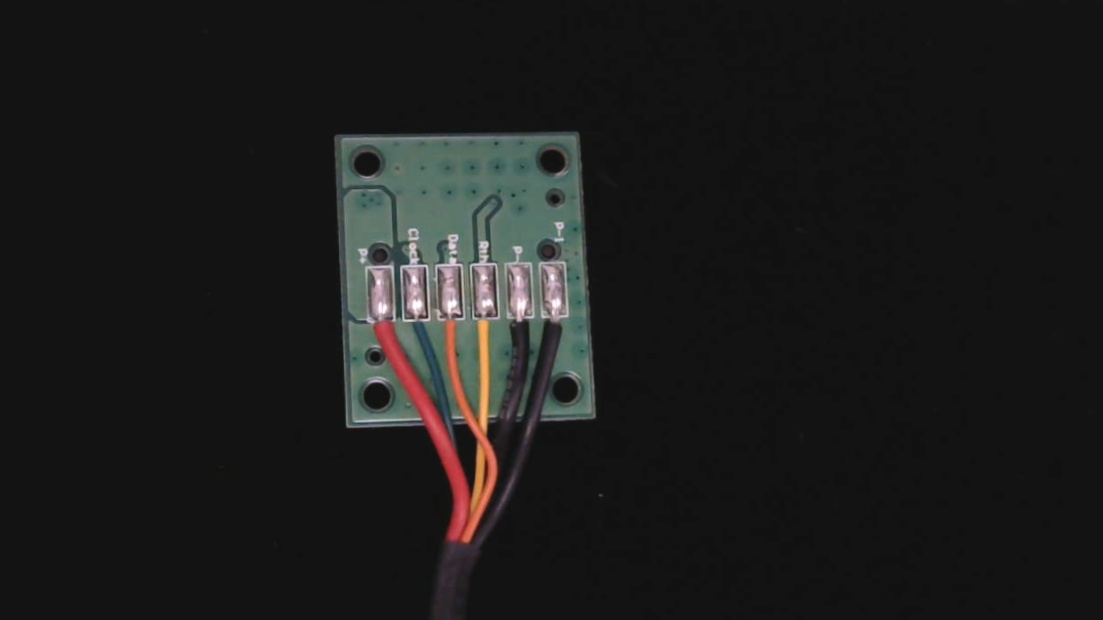Black: (494, 308, 523, 372)
Black1: (530, 303, 559, 361)
Green: (393, 307, 423, 365)
Orange: (426, 309, 455, 372)
Red: (359, 310, 389, 371)
Yellow: (461, 306, 491, 370)
